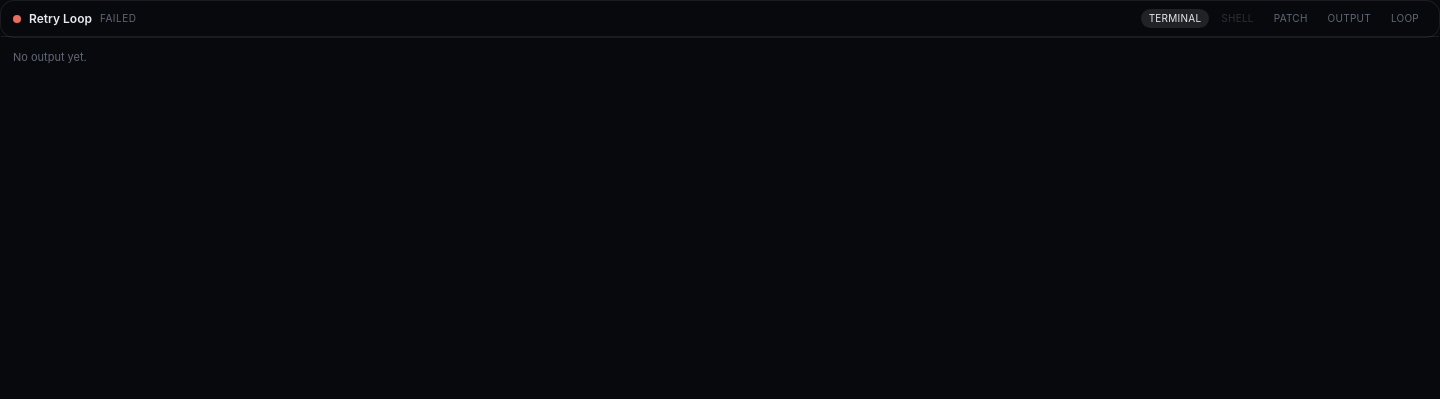
Test: RunTerminal — shell tab gating › renders Loop iteration summary and break-condition hint honestly
The width and height of the screenshot is (1440, 399).
Click the button "loop": (1405, 18) [1383, 9, 1427, 28]
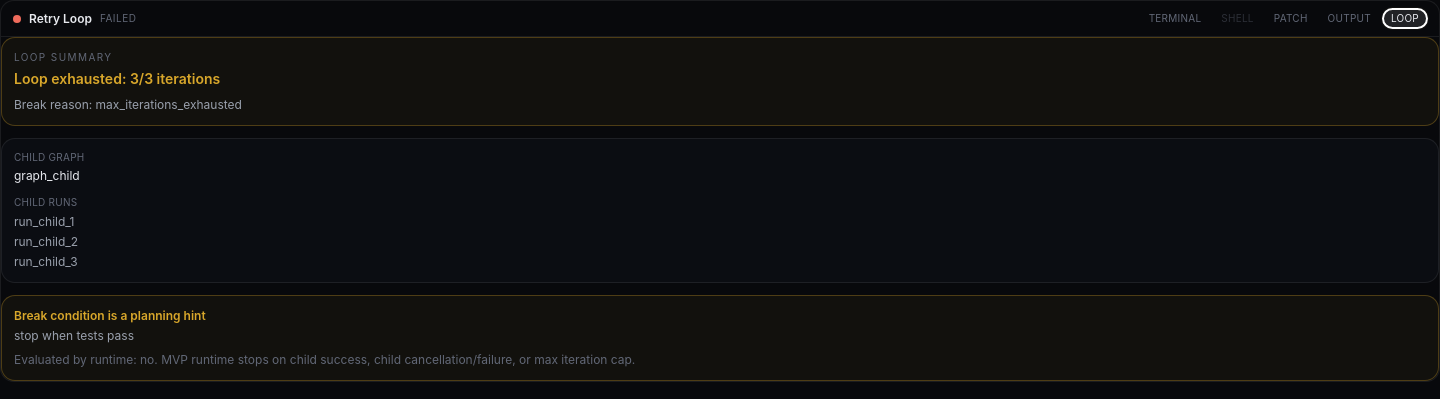
Check: the text "Loop exhausted: 3/3 iterations" is shown, box [14, 70, 220, 87]
Check: the text "Break reason: max_iterations_exhausted" is shown, box [14, 97, 242, 112]
Check: the text "graph_child" is shown, box [14, 168, 80, 183]
